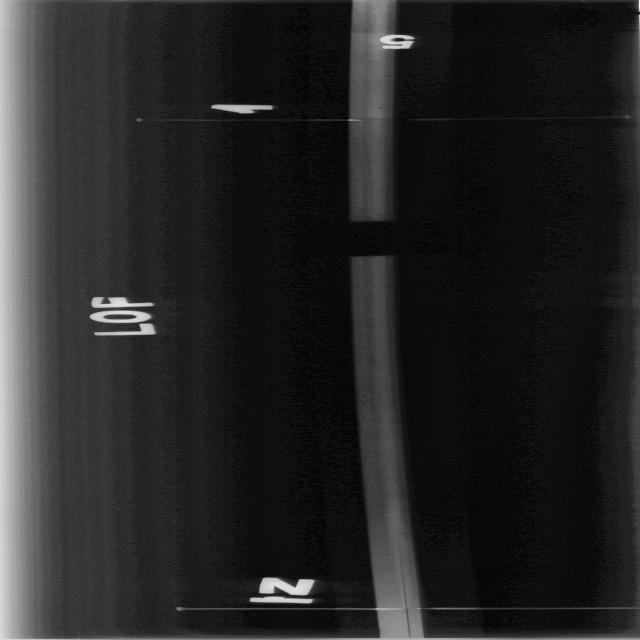LOP: (363, 260, 389, 458), (388, 549, 413, 589), (399, 588, 414, 637), (393, 531, 408, 550)
porosity: (373, 106, 385, 109)
